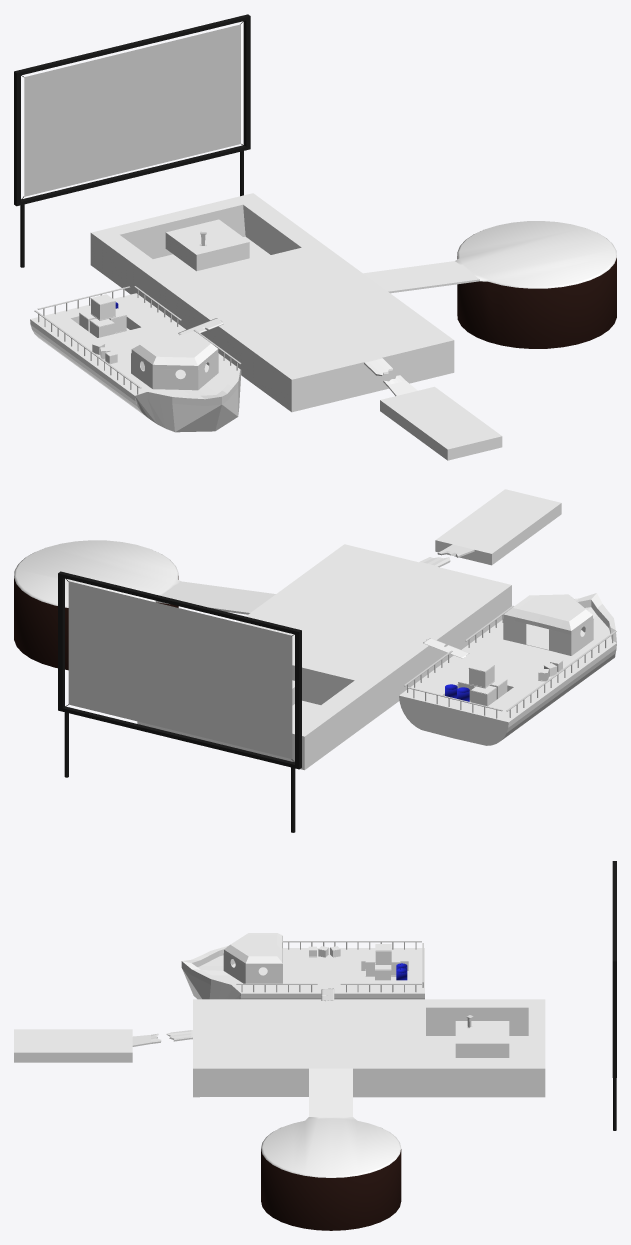
Rendered from TutorialDock.glb.
The picture shows the model from 3 angles, top to bottom: view 1: azimuth 30°, elevation 25°; view 2: azimuth 150°, elevation 25°; view 3: azimuth 270°, elevation 25°; orthographic projection. The views are drawn at different scales.
Parts seen in each view (by area): view 1: Center, Screen.001, Island, TradeBoat, Dock, Frame.001, BoatHouse, Stage; view 2: Center, Screen.001, TradeBoat, Island, Dock, Frame.001, BoatHouse, Stand.001, Box.004, BoatFence; view 3: Center, Island, TradeBoat, Dock, BoatHouse, Stage, Frame.001.
Part boxes in pixels (bbox=[...]): Center: bbox=[90, 193, 479, 412]; Screen.001: bbox=[24, 24, 240, 196]; Island: bbox=[455, 221, 616, 348]; TradeBoat: bbox=[30, 293, 241, 432]; Dock: bbox=[380, 375, 502, 460]; Frame.001: bbox=[14, 14, 250, 206]; BoatHouse: bbox=[131, 331, 218, 390]; Stage: bbox=[165, 219, 249, 271]; Center: bbox=[137, 544, 511, 770]; Screen.001: bbox=[68, 581, 292, 758]; TradeBoat: bbox=[399, 593, 616, 745]; Island: bbox=[14, 540, 180, 670]; Dock: bbox=[435, 489, 561, 565]; Frame.001: bbox=[58, 571, 301, 769]; BoatHouse: bbox=[503, 594, 593, 655]; Stand.001: bbox=[64, 712, 295, 832]; Box.004: bbox=[468, 661, 494, 688]; BoatFence: bbox=[506, 631, 616, 717]; Center: bbox=[166, 999, 545, 1116]; Island: bbox=[261, 1117, 401, 1230]; TradeBoat: bbox=[181, 946, 424, 999]; Dock: bbox=[14, 1029, 161, 1062]; BoatHouse: bbox=[223, 933, 282, 983]; Stage: bbox=[455, 1021, 509, 1057]; Frame.001: bbox=[612, 861, 616, 1077].
Size of the model in its own units: 66.92 by 25.97 by 76.25.
